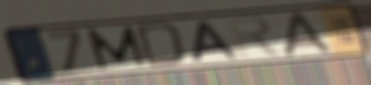7: (43, 28, 87, 74)
A: (283, 9, 336, 59), (190, 20, 242, 63)
D: (134, 21, 189, 69)
M: (84, 24, 148, 72)
R: (225, 14, 287, 60)
